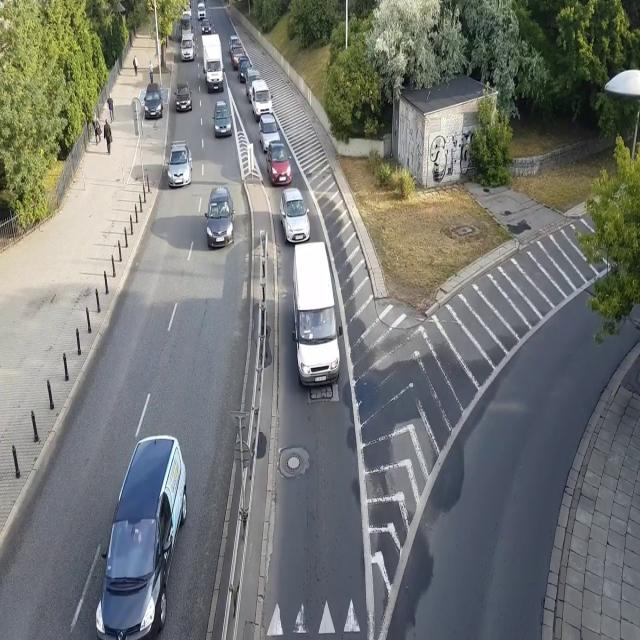car: (204, 187, 236, 250), (280, 188, 310, 244), (166, 140, 193, 188), (266, 140, 292, 187), (258, 114, 280, 153), (212, 100, 232, 138), (144, 83, 163, 119), (175, 82, 192, 112), (231, 44, 245, 72), (237, 57, 252, 83), (229, 34, 239, 54), (196, 2, 206, 21), (200, 19, 212, 34)
truck: (202, 34, 225, 93)
van: (94, 434, 188, 640), (291, 242, 343, 387), (251, 81, 273, 122), (246, 67, 261, 104), (180, 33, 196, 62), (179, 14, 193, 40)
